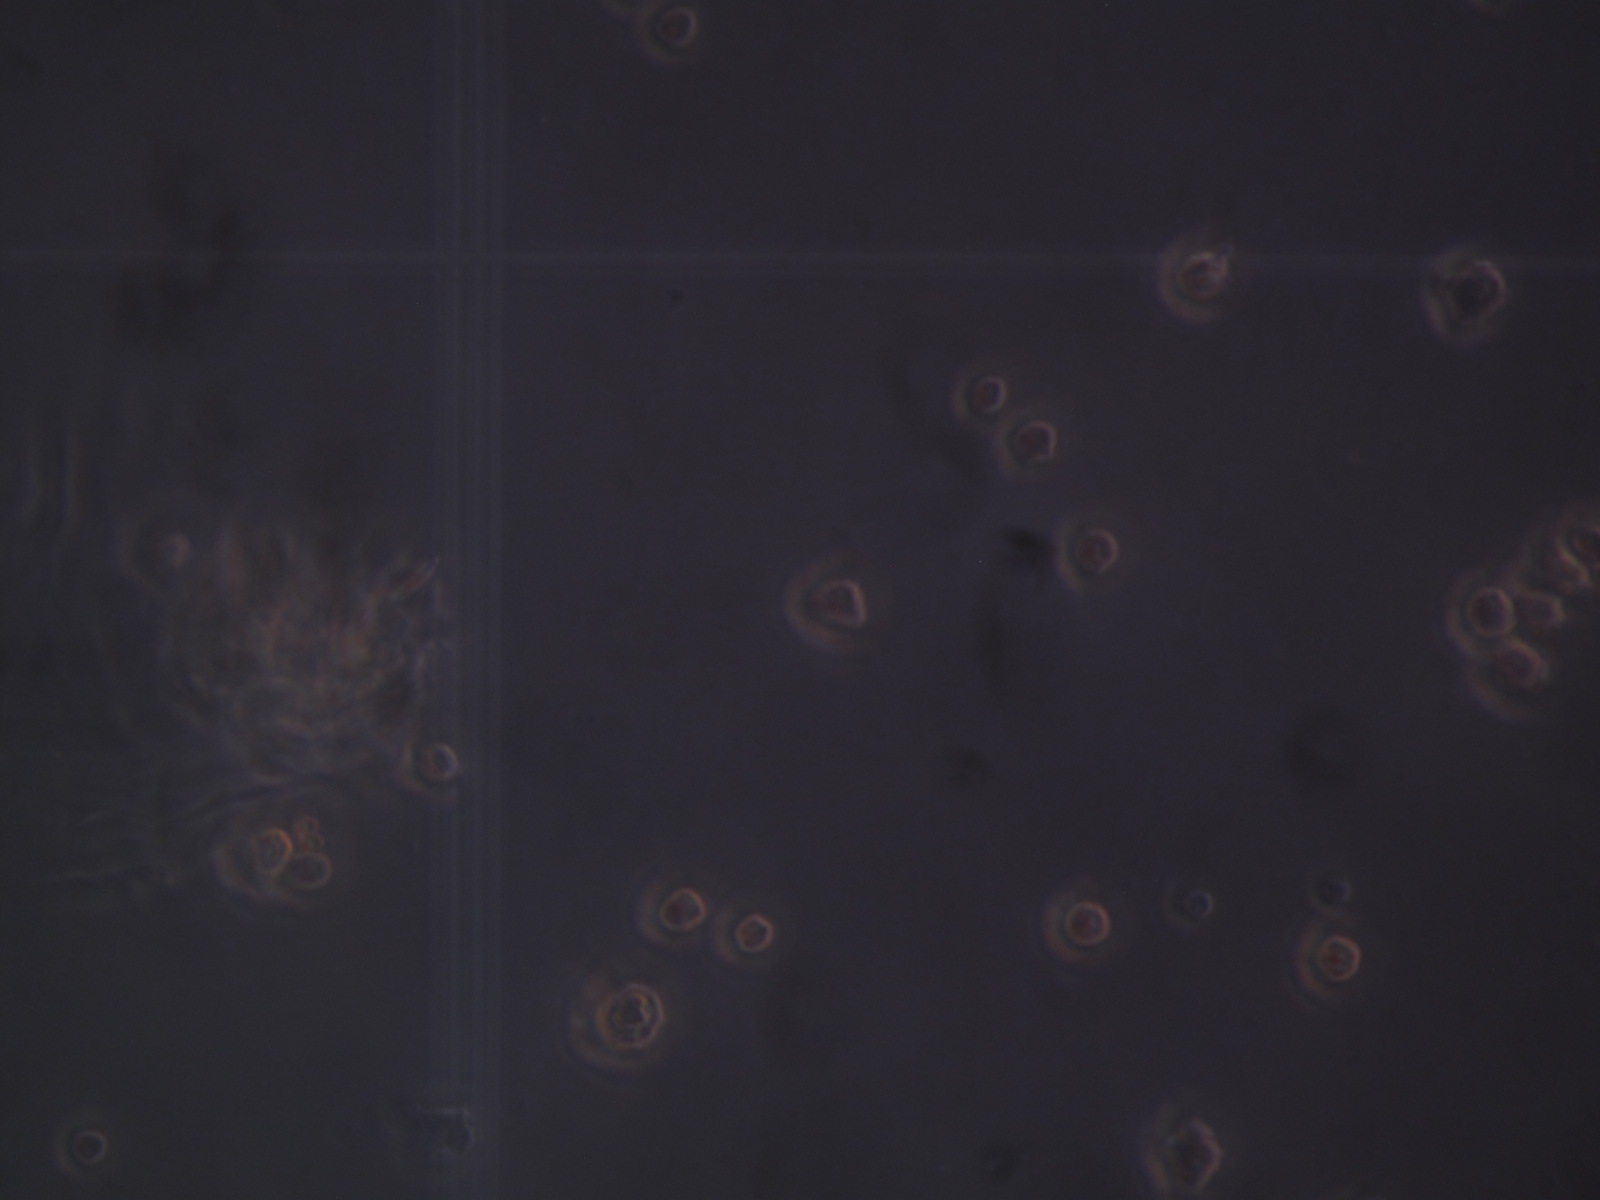hemo: (571, 982, 666, 1071), (1139, 1102, 1225, 1200), (1421, 246, 1506, 345), (781, 563, 866, 655), (1466, 643, 1543, 726), (1155, 241, 1228, 323), (1448, 568, 1516, 655), (215, 828, 292, 900), (635, 881, 707, 955), (713, 896, 784, 972), (1296, 923, 1361, 1002), (1044, 891, 1110, 961), (1058, 518, 1119, 592), (636, 1, 698, 67), (397, 741, 464, 799), (997, 413, 1057, 470), (951, 366, 1007, 422), (278, 852, 335, 908), (1509, 576, 1563, 634), (1164, 879, 1214, 937), (59, 1121, 108, 1176), (1543, 542, 1592, 592)
